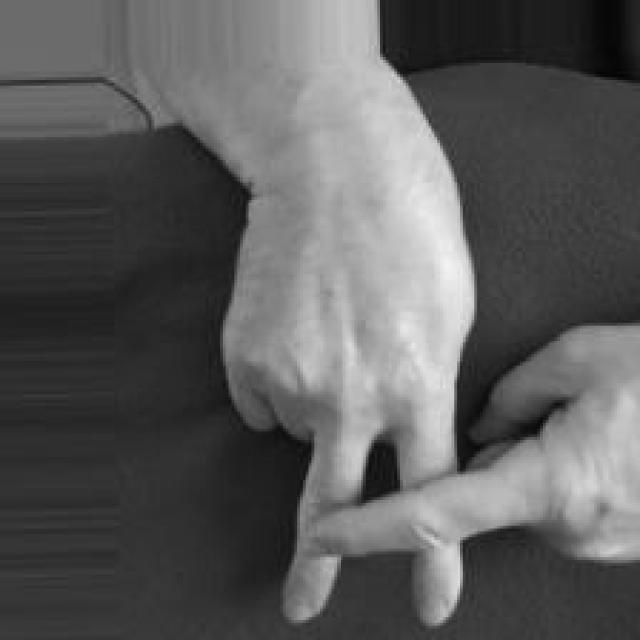A: (214, 181, 640, 640)
